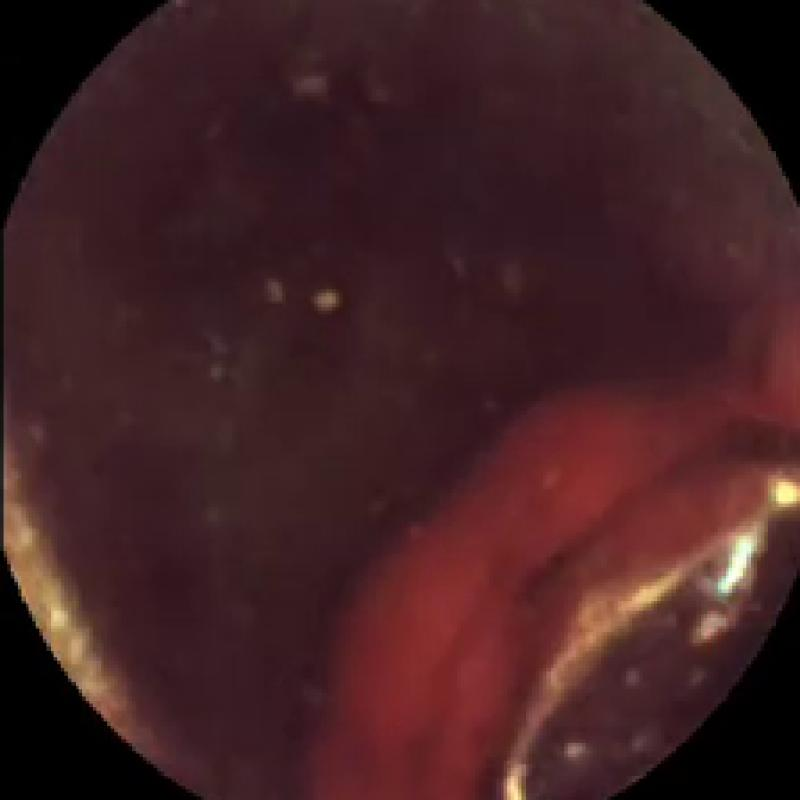bleeding: (318, 314, 800, 800)
